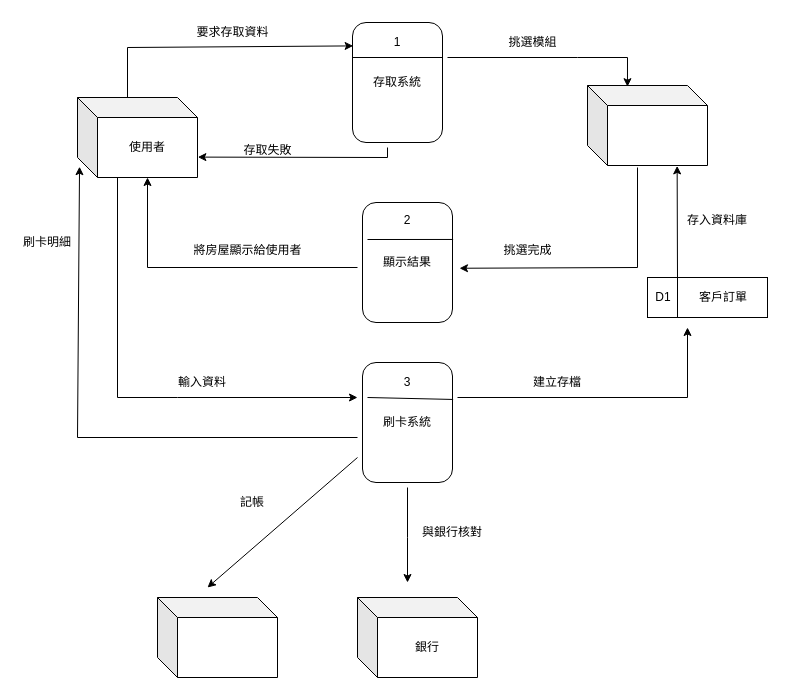
This 785x695 diagram has some shape labels left out. The centre of each missing label's shape, as x and y in pixels:
會計部門: point (217, 637)
系統資料庫: point (647, 125)
